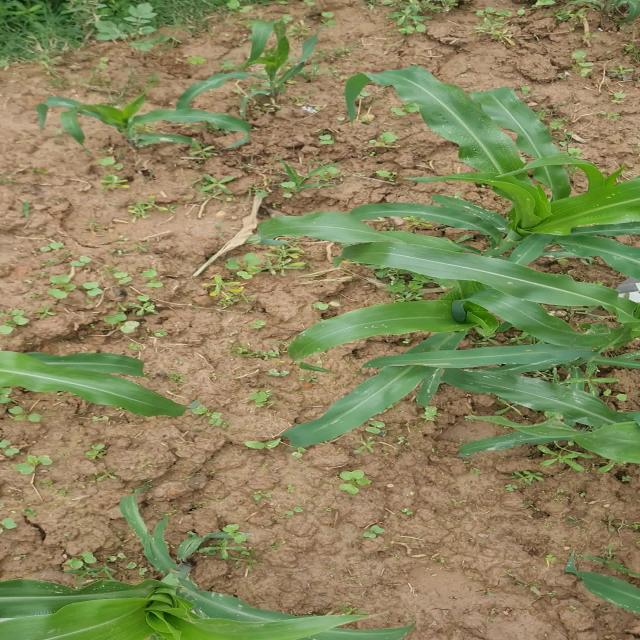maize: (373, 88, 640, 472), (89, 515, 290, 640), (113, 42, 311, 148), (0, 352, 175, 412), (551, 563, 640, 632)
weed: (59, 232, 270, 332), (359, 1, 631, 42), (332, 466, 418, 552)
